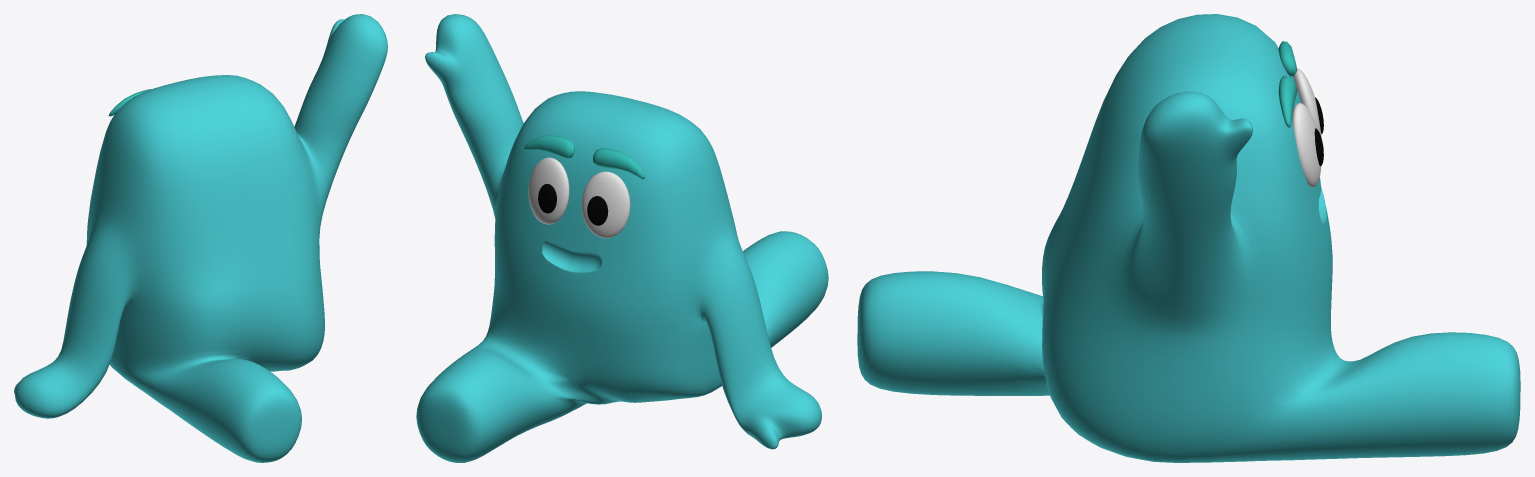
File: chubby_gummies_blue.glb
3 views of the same model, side by side, from view 1: azimuth 30°, elevation 25°; view 2: azimuth 150°, elevation 25°; view 3: azimuth 270°, elevation 25° (orthographic). The views are drawn at different scales.
Parts seen in each view (by area): view 1: chubbie_gummies_blue; view 2: chubbie_gummies_blue; view 3: chubbie_gummies_blue.
Boxes of the visible parts, left/top/right/bottom form: chubbie_gummies_blue: left=14, top=14, right=387, bottom=462; chubbie_gummies_blue: left=416, top=14, right=828, bottom=462; chubbie_gummies_blue: left=857, top=14, right=1520, bottom=462.
Size of the model in its own units: 1.56 by 1.32 by 1.82.
